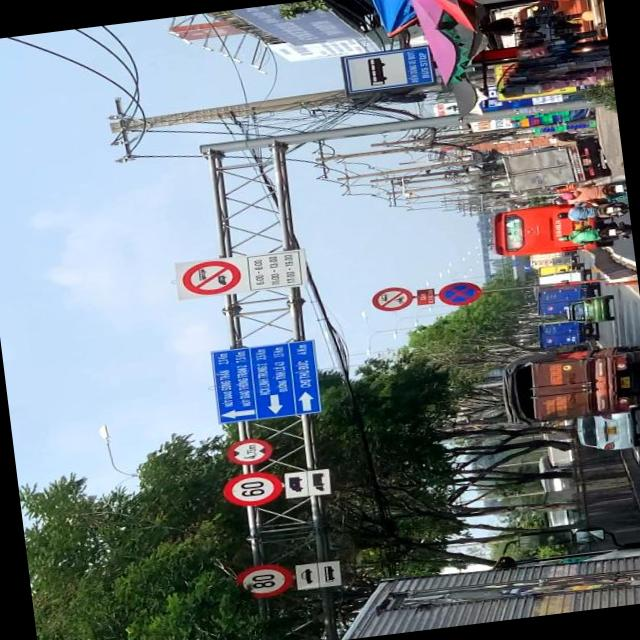P-117: (227, 438, 270, 463)
P-130: (436, 280, 480, 306)
